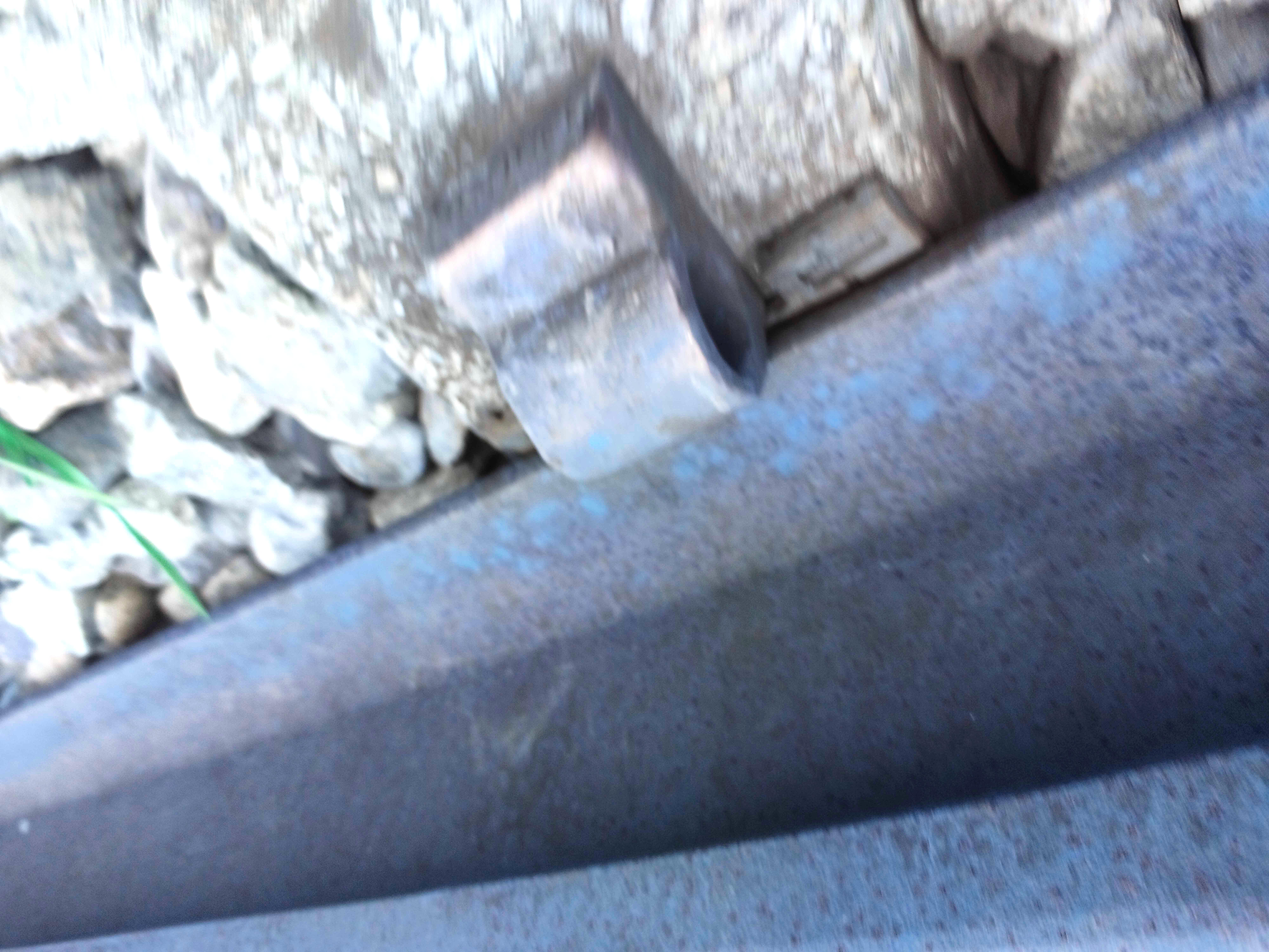loss: (396, 69, 803, 518)
